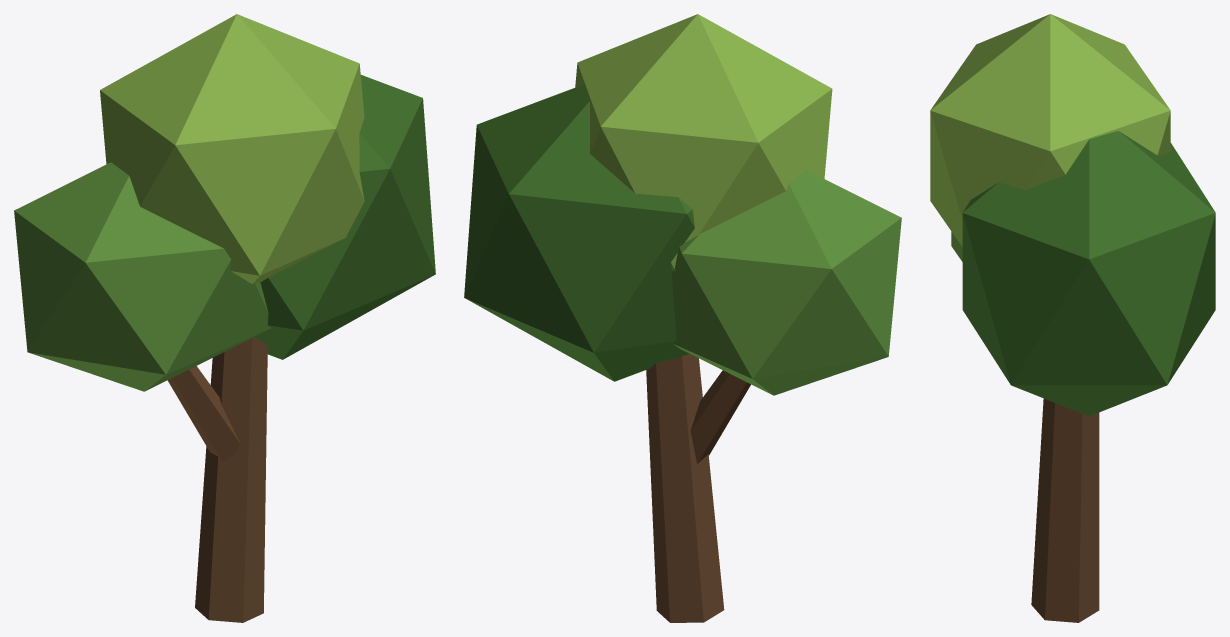
File: tree_broadleaf.glb
The picture shows the model from 3 angles, left to right: view 1: azimuth 30°, elevation 25°; view 2: azimuth 150°, elevation 25°; view 3: azimuth 270°, elevation 25°; orthographic projection.
Visible parts, largest first — view 1: tree_broadleaf; view 2: tree_broadleaf; view 3: tree_broadleaf.
Boxes of the visible parts, box(x1,y1,x2,y2) form: tree_broadleaf: box(14, 14, 435, 622); tree_broadleaf: box(464, 14, 901, 622); tree_broadleaf: box(930, 14, 1215, 622).
Bounding box in the file's own units: 0.3118 × 0.4415 × 0.1919.
